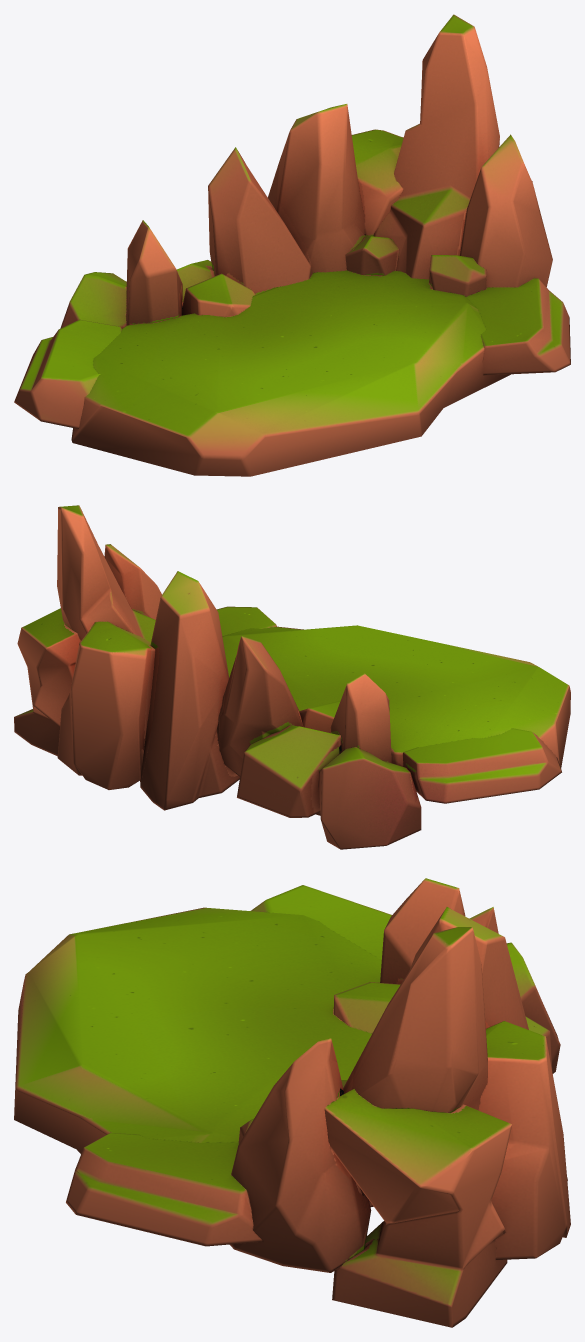
Rendered from NormalCaveLightNew.fbx.
3 views of the same model, one above another, from view 1: azimuth 30°, elevation 25°; view 2: azimuth 150°, elevation 25°; view 3: azimuth 270°, elevation 25° (orthographic). The views are drawn at different scales.
Visible parts, largest first — view 1: NormalCavesLight_Low003; view 2: NormalCavesLight_Low003; view 3: NormalCavesLight_Low003.
Boxes of the visible parts, left/top/right/bottom form: NormalCavesLight_Low003: left=14, top=14, right=570, bottom=476; NormalCavesLight_Low003: left=14, top=505, right=570, bottom=849; NormalCavesLight_Low003: left=14, top=878, right=570, bottom=1327.
Bounding box in the file's own units: 977 × 502 × 647.
